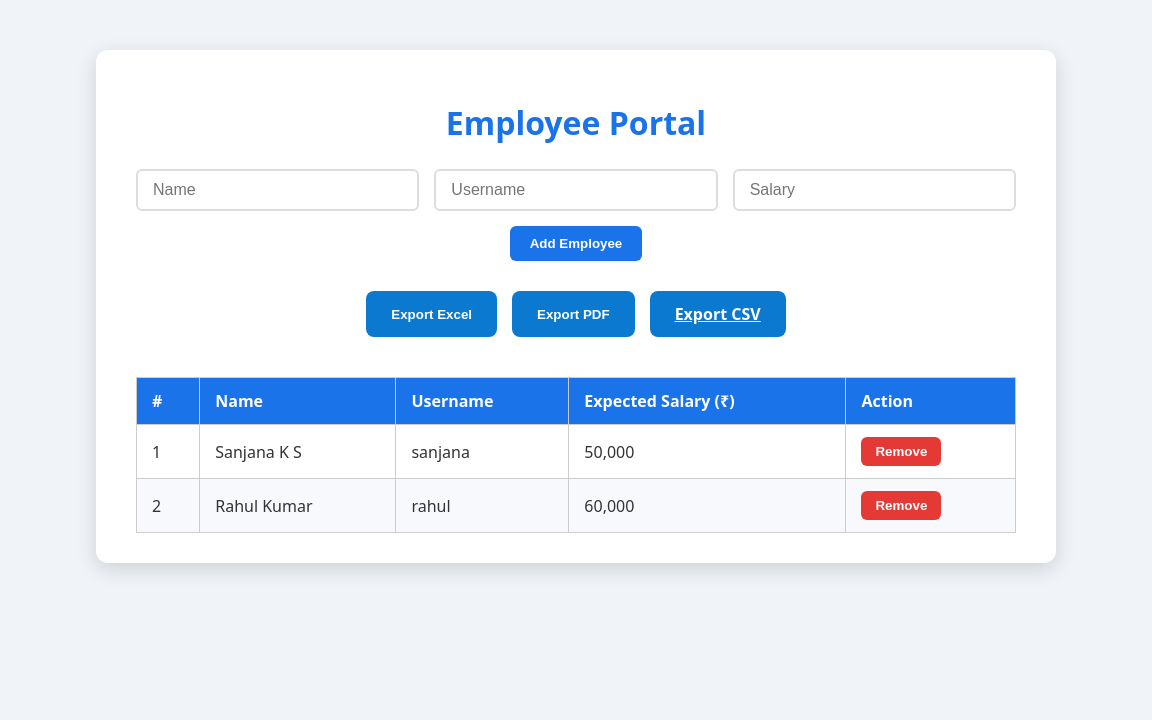
Test: App › can add a new employee
Type "Test User" into the field with placeholder "Name" at {"x": 278, "y": 190}, box [136,169,419,211]
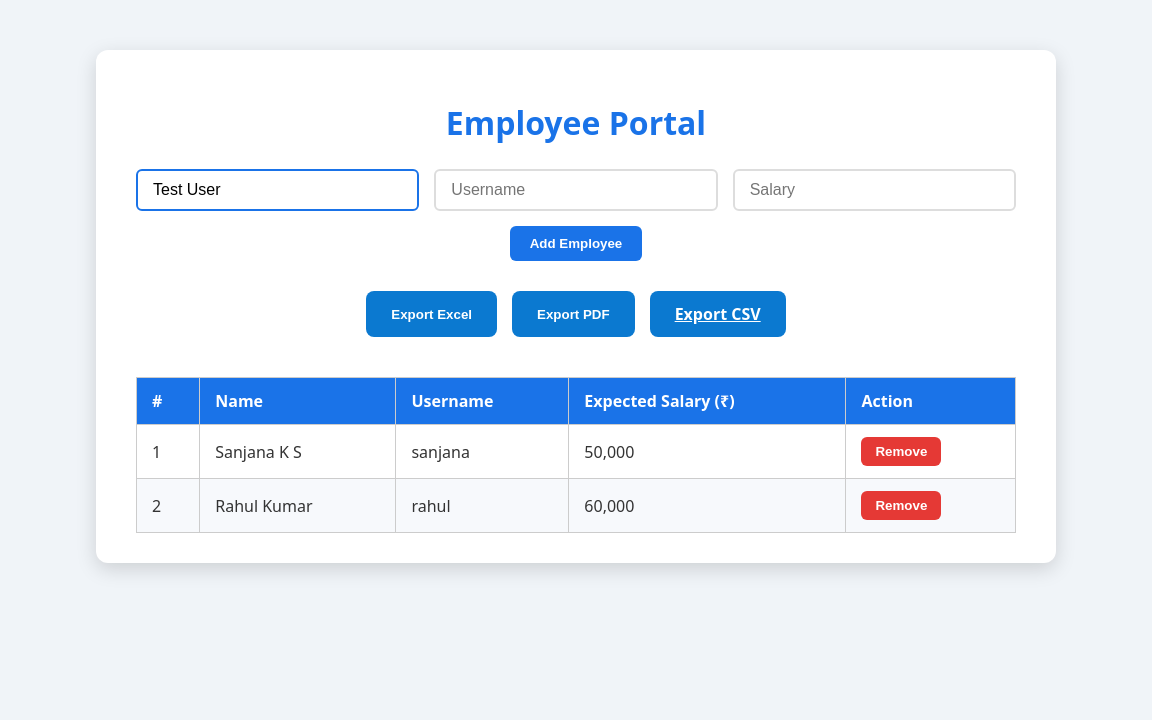
Type "testuser" into the field with placeholder "Username" at {"x": 576, "y": 190}, box [434,169,718,211]
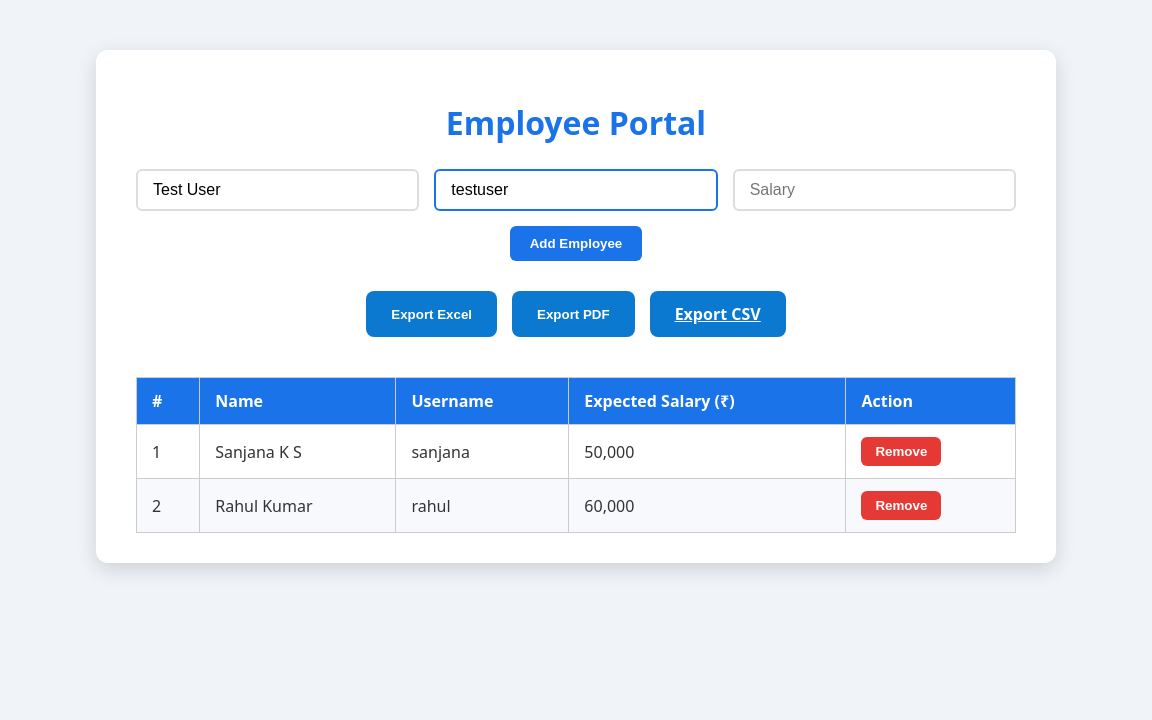
Type "45000" into the number field with placeholder "Salary" at {"x": 874, "y": 190}, box [733,169,1016,211]
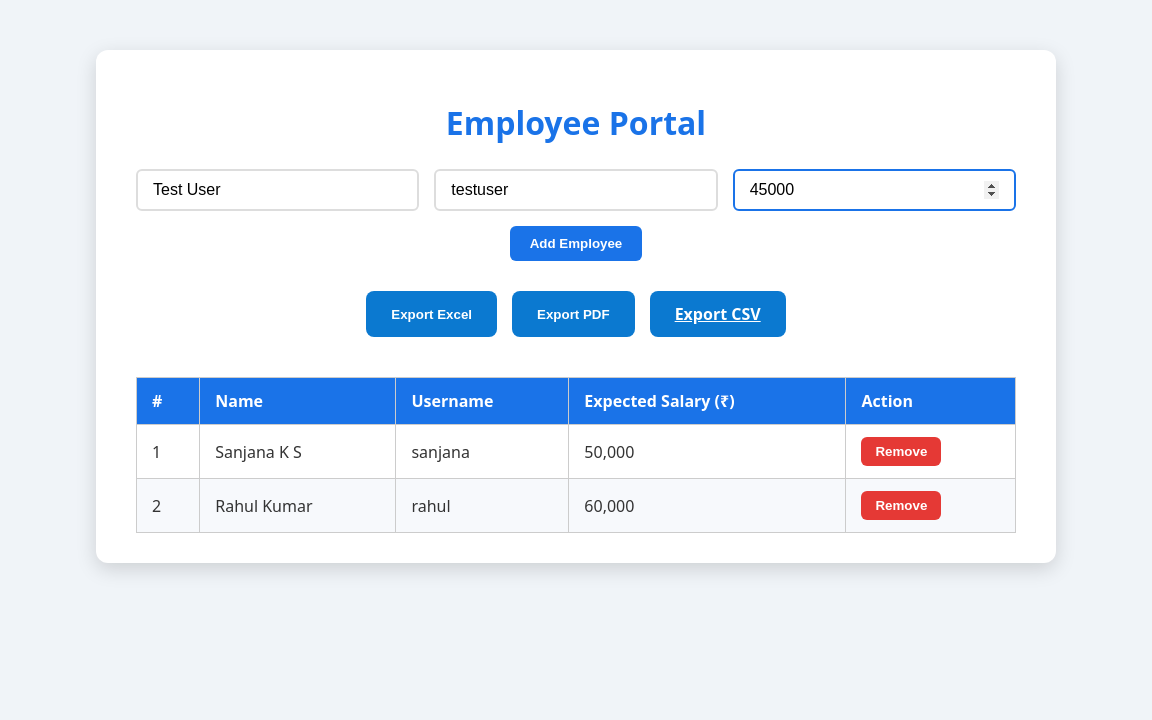
Click the button "Add Employee" at {"x": 576, "y": 244}, box [510,226,642,261]
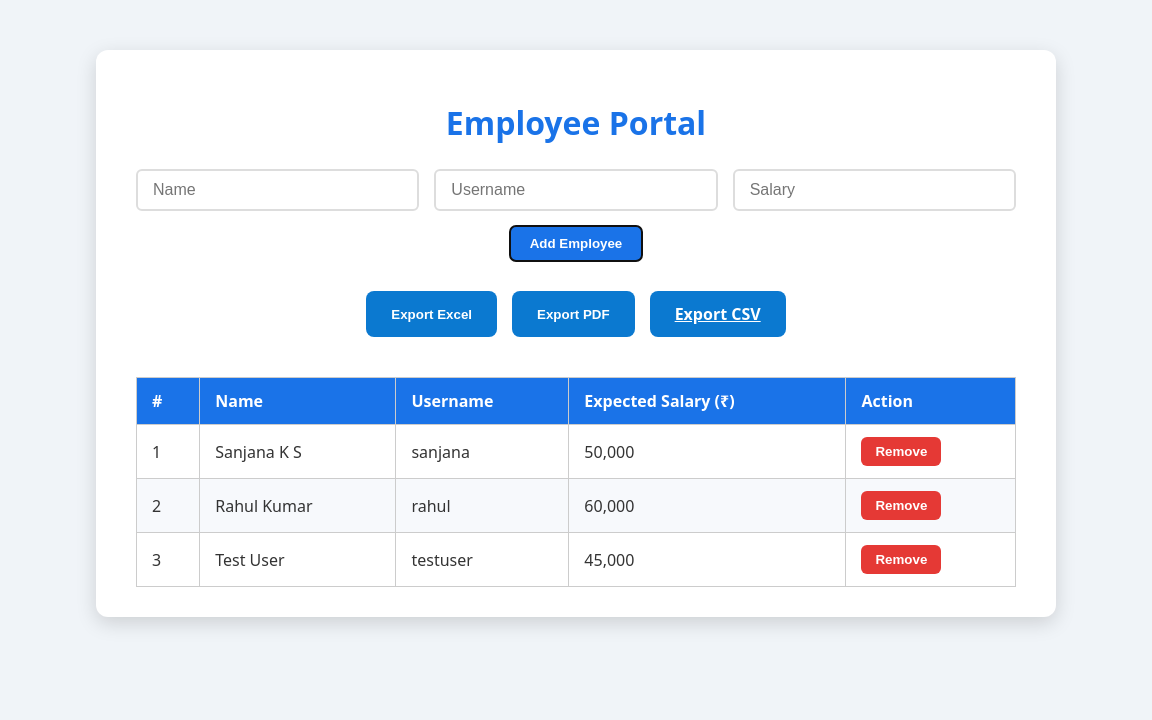
Expected: the text "Test User" is shown, [200,533,396,587]
